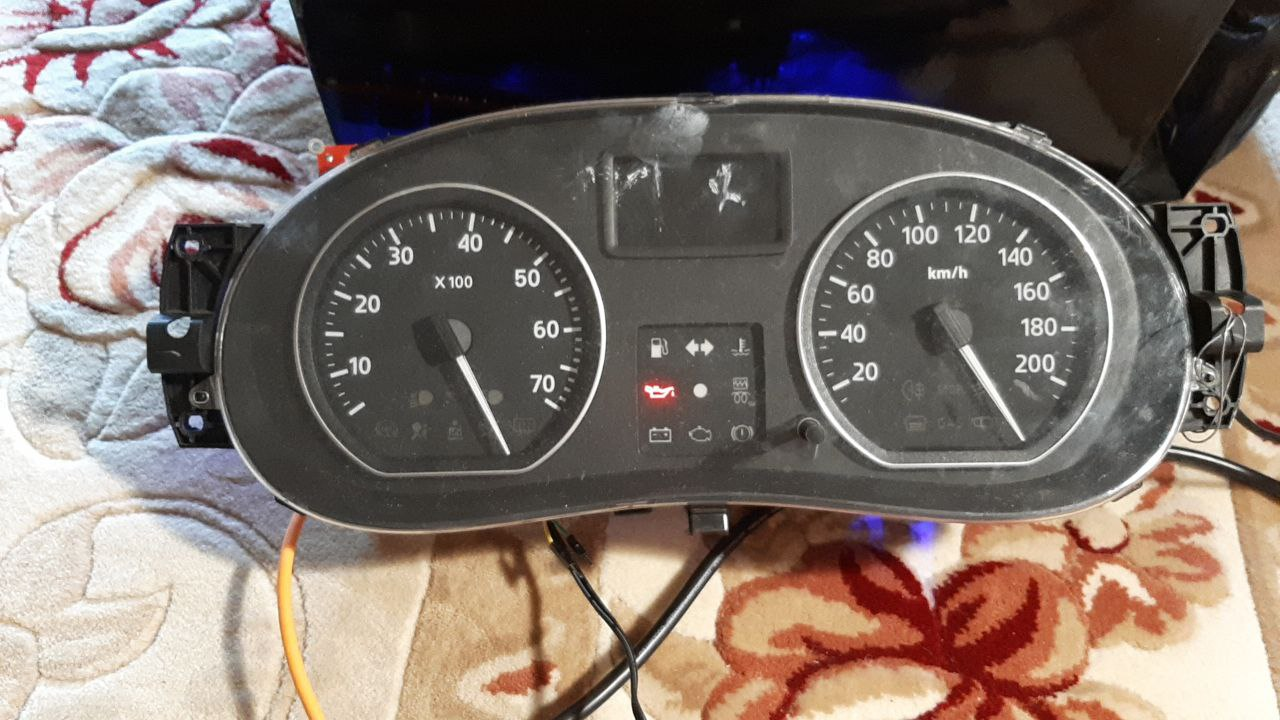oil: (640, 379, 676, 403)
